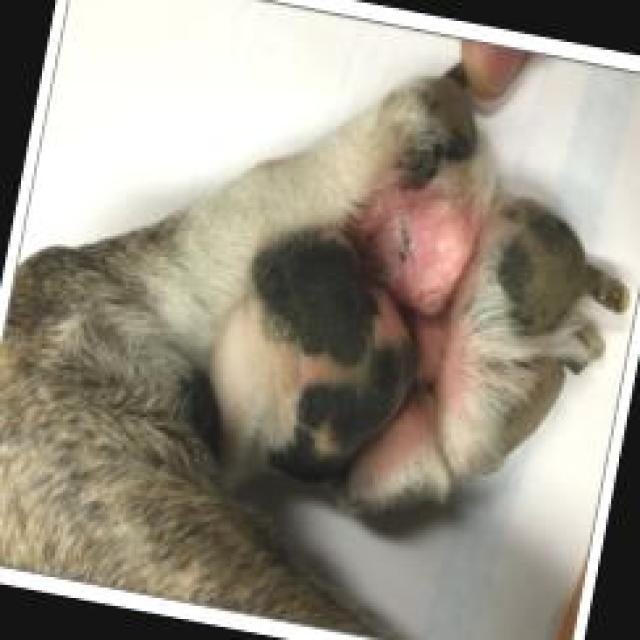allergic dermatitis: (358, 188, 474, 314), (402, 301, 466, 419), (354, 400, 432, 481)
